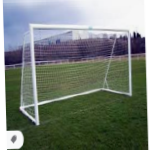goals: (17, 22, 134, 126)
